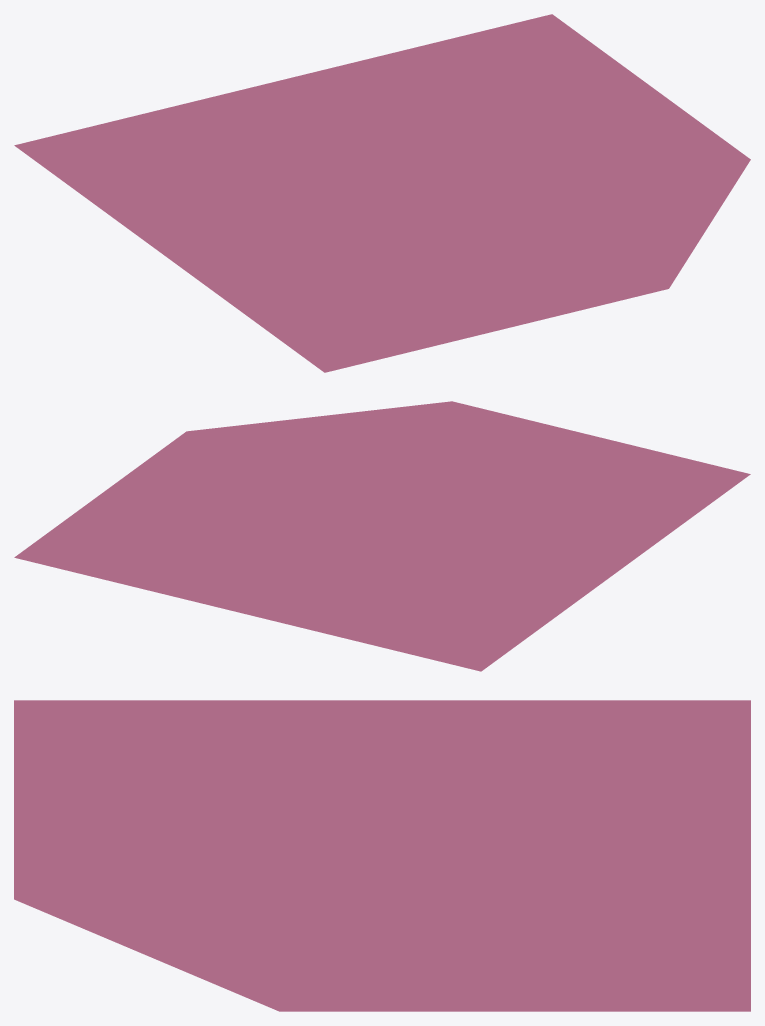
The model's file is Module_Diagonal_Joint_Mesh_v01_Top.fbx.
3 renders of one model, top to bottom at view 1: azimuth 30°, elevation 25°; view 2: azimuth 150°, elevation 25°; view 3: azimuth 270°, elevation 25°, orthographic. The views are drawn at different scales.
Parts seen in each view (by area): view 1: Module_Diagonal_Joint_Mesh_v01; view 2: Module_Diagonal_Joint_Mesh_v01; view 3: Module_Diagonal_Joint_Mesh_v01.
Part boxes in pixels (left/top/right/bottom): Module_Diagonal_Joint_Mesh_v01: left=14, top=14, right=750, bottom=372; Module_Diagonal_Joint_Mesh_v01: left=14, top=401, right=750, bottom=671; Module_Diagonal_Joint_Mesh_v01: left=14, top=700, right=750, bottom=1011.
Bounding box in the file's own units: 200 × 0 × 200.
